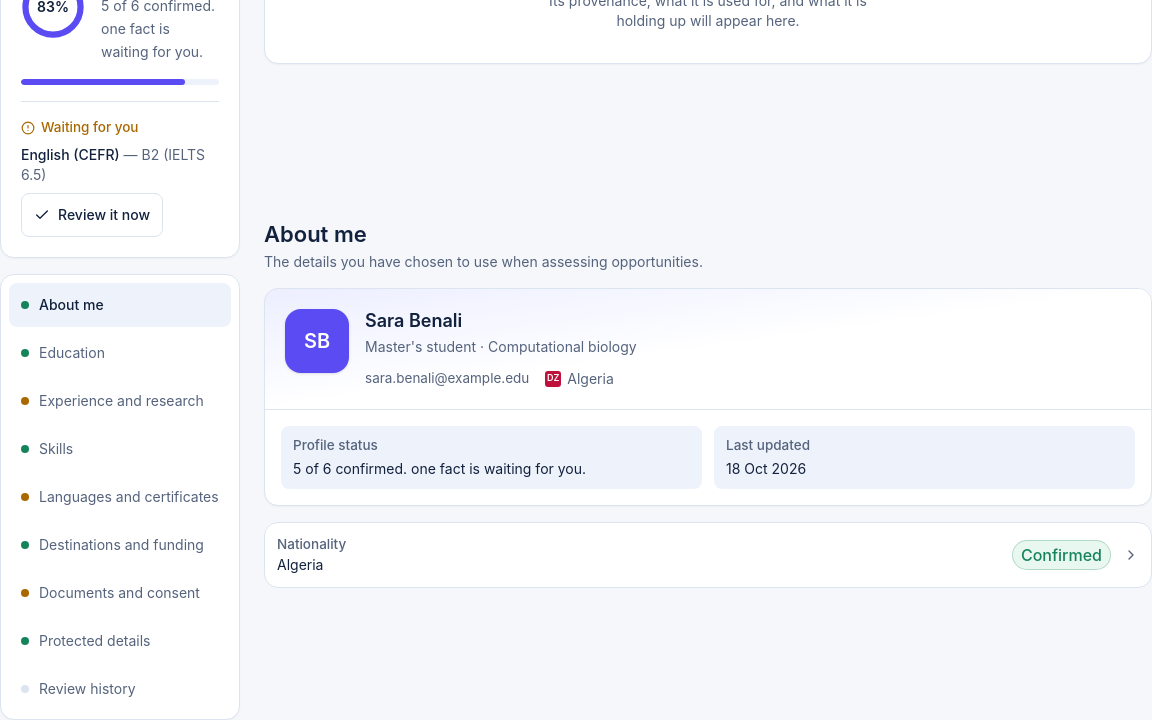
Scenario: ProfilePassportPage › shows the provenance and the purpose of a fact
(page scrolled)
Click the button "Nationality Algeria Confirmed".
click(312, 544)  # box [264,522,1151,588]
(page scrolled)
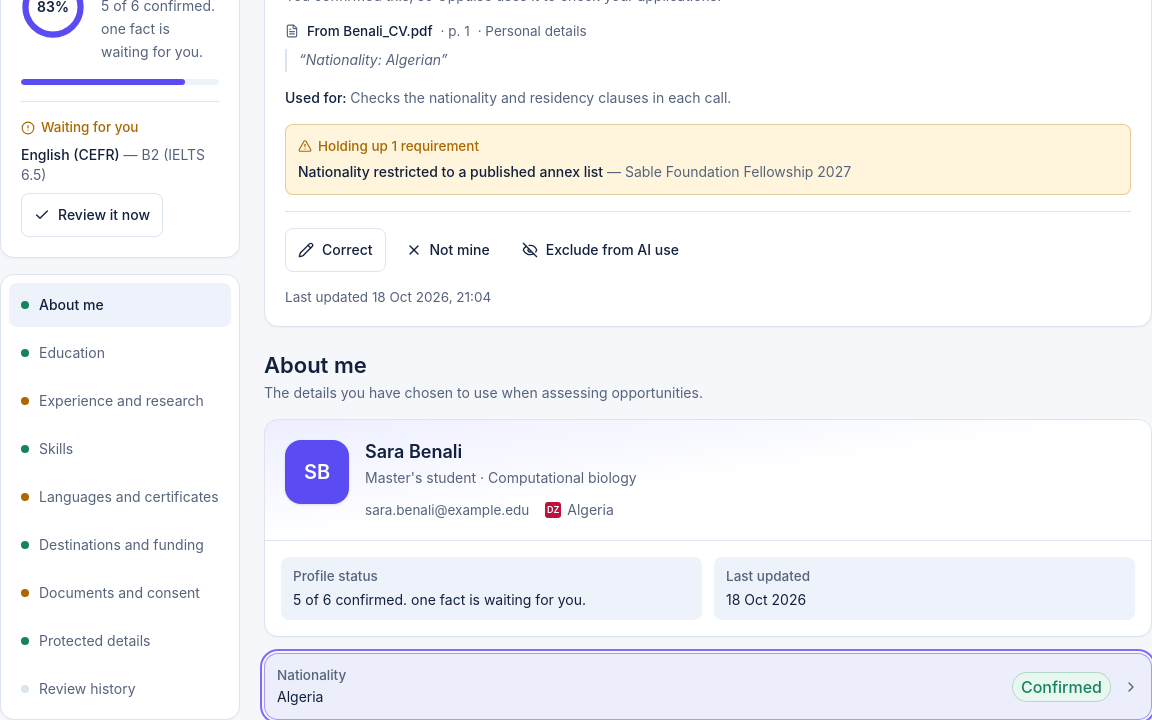
Now the text "From Benali_CV.pdf" is shown, box [307,22,432,41]
Now the text "Checks the nationality and residency clauses" is shown, box [350,89,731,106]
